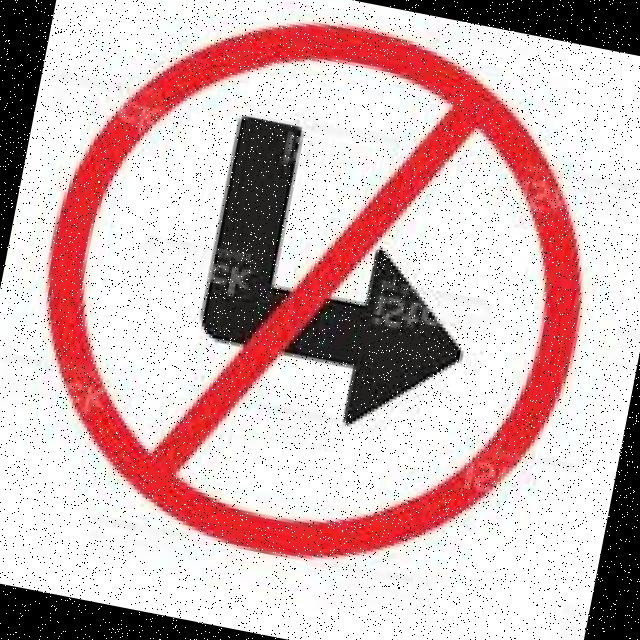do_not_turn_right: (0, 0, 635, 625)
